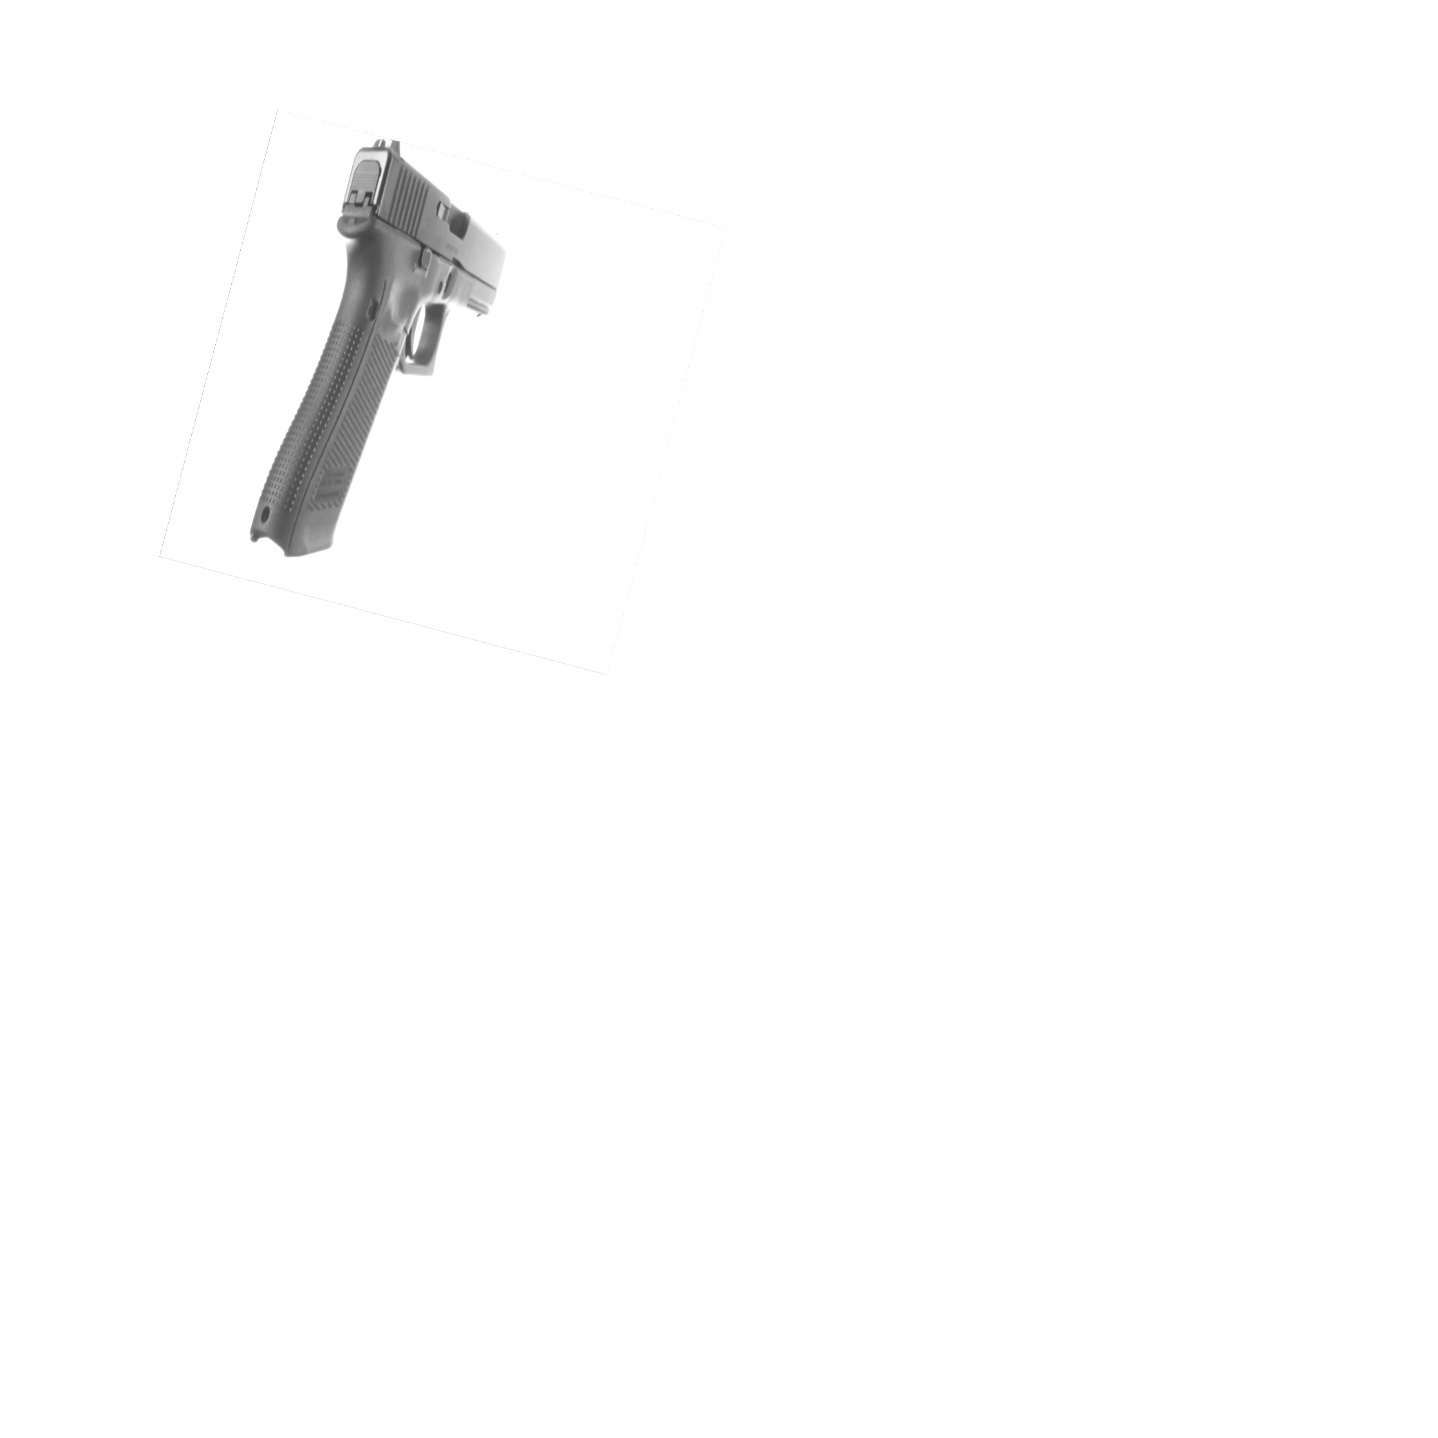gun: (249, 136, 512, 558)
